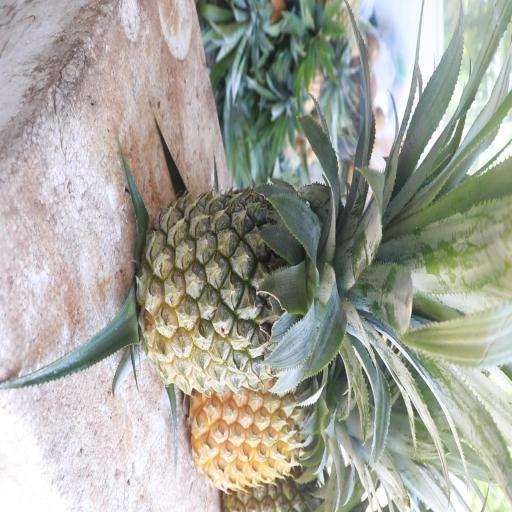------------------------------: (142, 186, 349, 386)
Pineapple - v8 v1: (189, 376, 324, 489)
